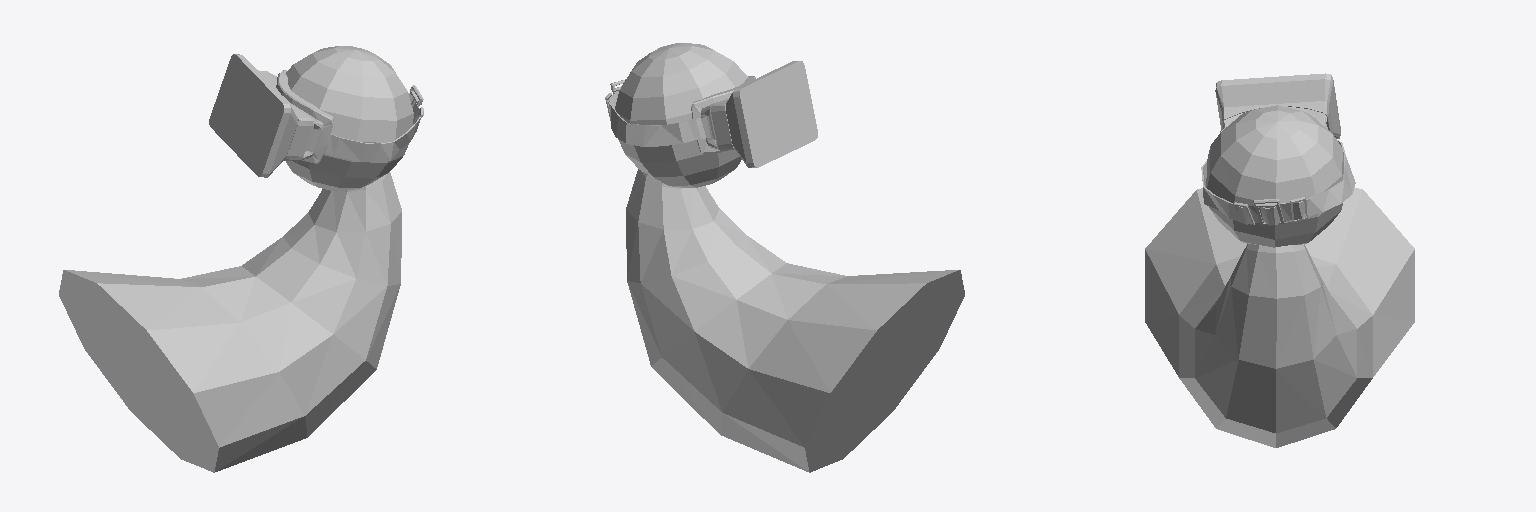
Rendered from slumpy.obj.
The picture shows the model from 3 angles: view 1: azimuth 30°, elevation 25°; view 2: azimuth 150°, elevation 25°; view 3: azimuth 270°, elevation 25°; orthographic projection.
Parts seen in each view (by area): view 1: pCone1, pSphere1, RiftModelOBJ:rift, RiftModelOBJ:straps; view 2: pCone1, pSphere1, RiftModelOBJ:rift, RiftModelOBJ:straps; view 3: pCone1, pSphere1, RiftModelOBJ:rift, RiftModelOBJ:straps.
Boxes of the visible parts, box(x1,y1,x2,y2) form: pCone1: box(59, 172, 401, 472); pSphere1: box(286, 46, 413, 190); RiftModelOBJ:rift: box(209, 54, 333, 177); RiftModelOBJ:straps: box(325, 85, 423, 161); pCone1: box(626, 169, 964, 472); pSphere1: box(615, 43, 748, 187); RiftModelOBJ:rift: box(691, 61, 817, 167); RiftModelOBJ:straps: box(605, 79, 710, 146); pCone1: box(1145, 187, 1414, 447); pSphere1: box(1206, 105, 1343, 247); RiftModelOBJ:rift: box(1215, 73, 1340, 138); RiftModelOBJ:straps: box(1201, 140, 1355, 225).
Size of the model in its own units: 1.96 by 2.18 by 1.44.